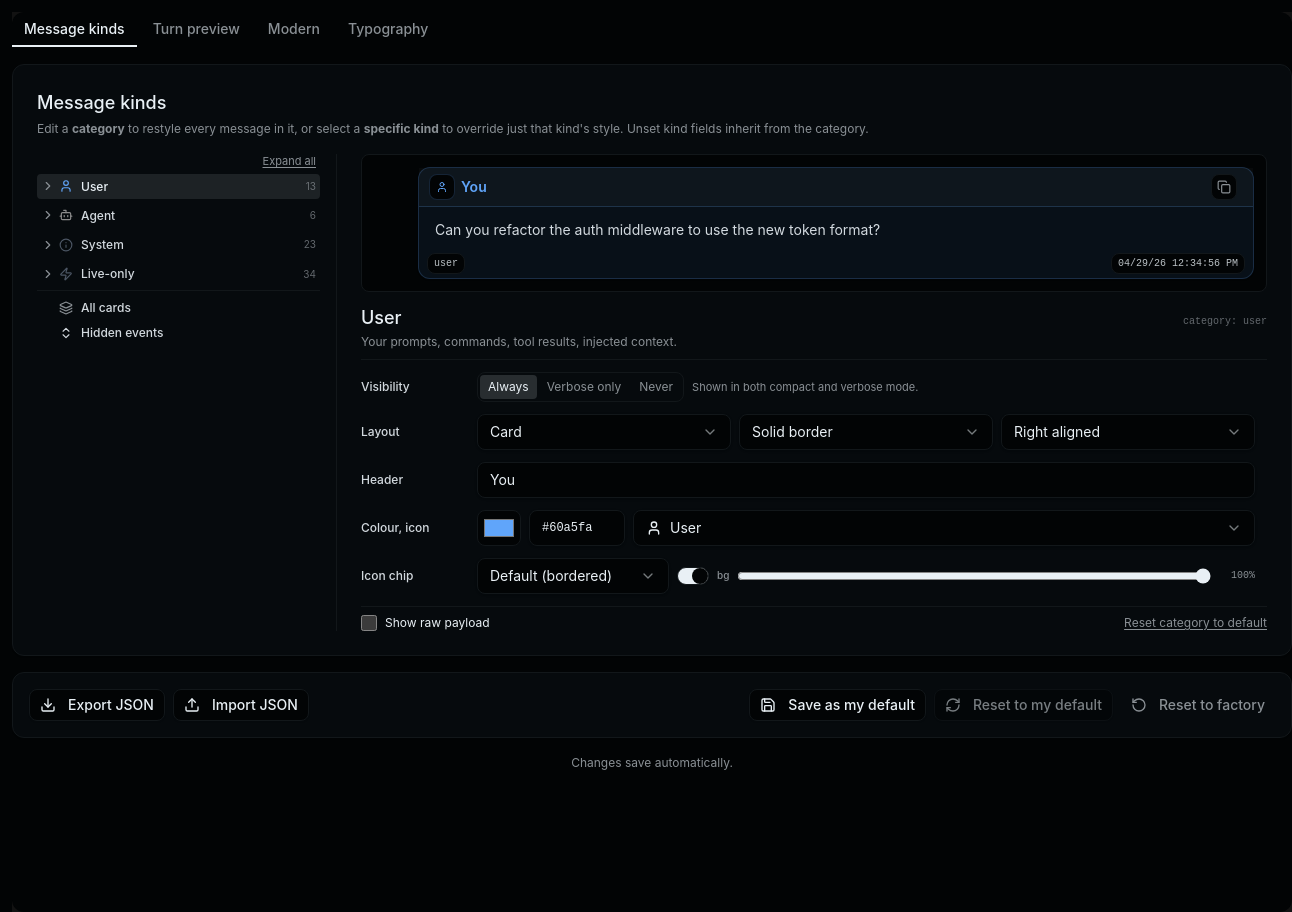
Test: AppearanceSettings — All cards › previews a generic card titled All cards
Click the button "All cards" at (106, 308), box [41,299,316,316]
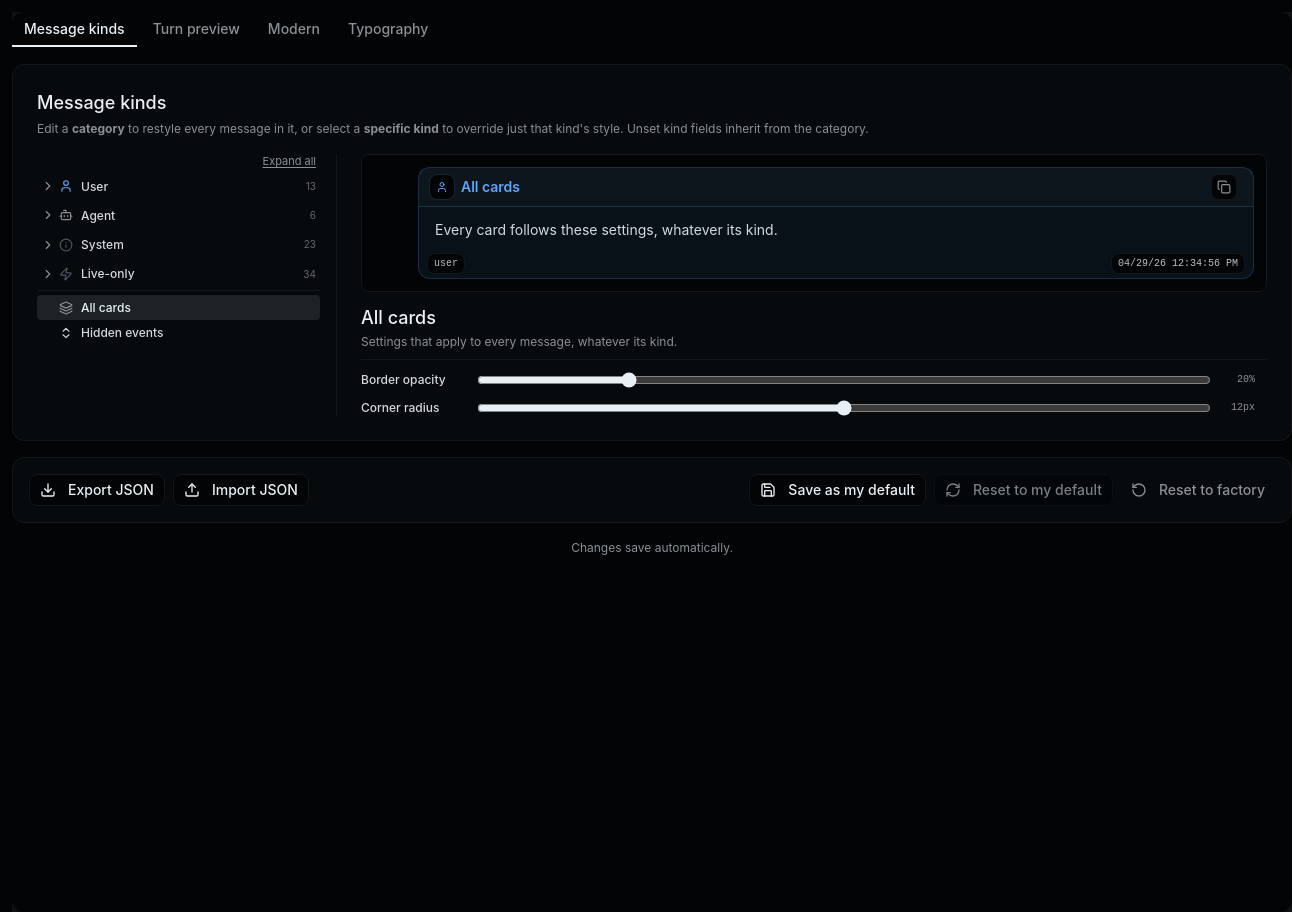
Expected: the 1st text "All cards" is shown, [461,177,520,197]
